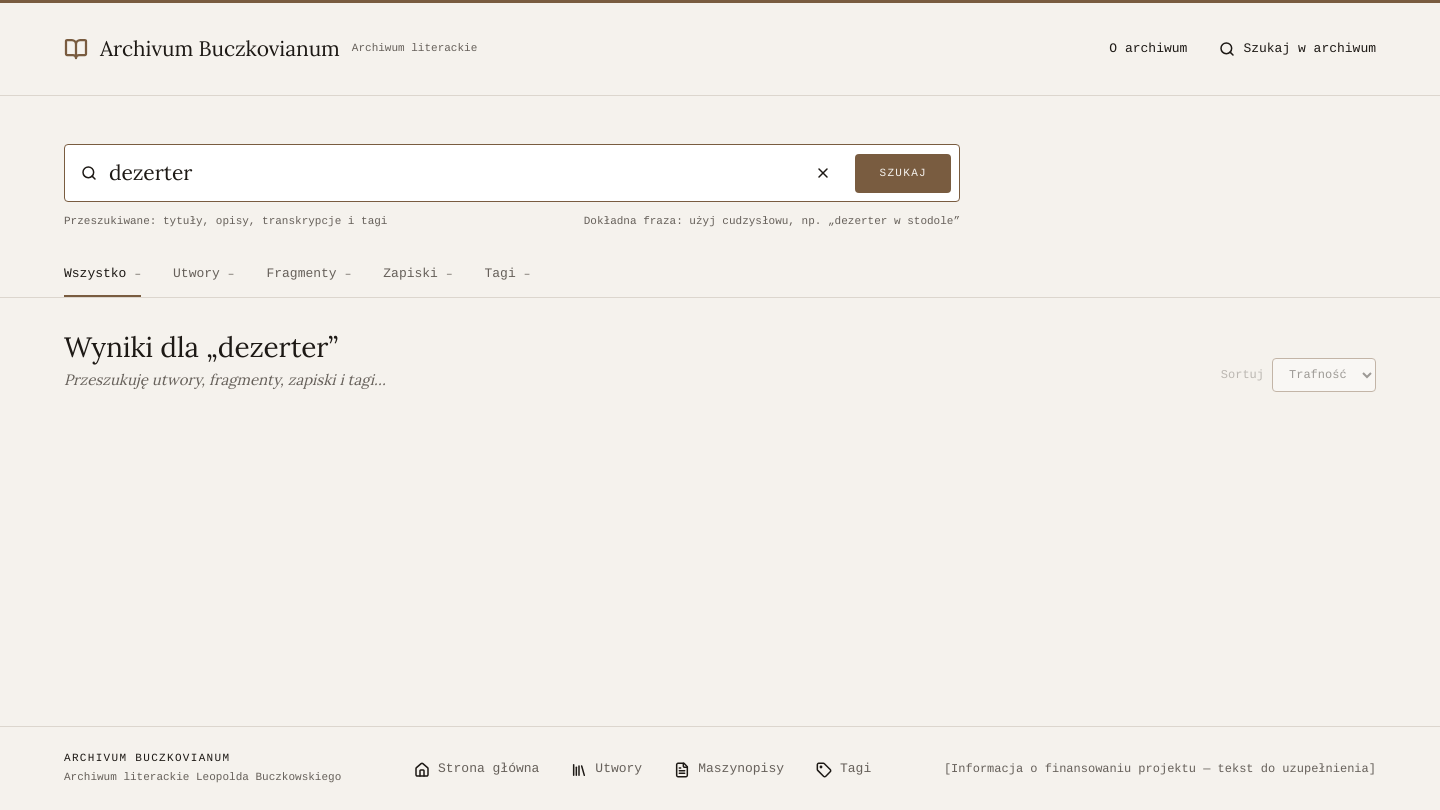
SiteLayout › US-RA-14 AC1: a header search for the current query drops unsubmitted edits
The width and height of the screenshot is (1440, 810).
Replace the text in the dropdown named "Szukaj w archiwum" with "potok" at (450, 173), box x1=109 y1=159 x2=792 y2=188
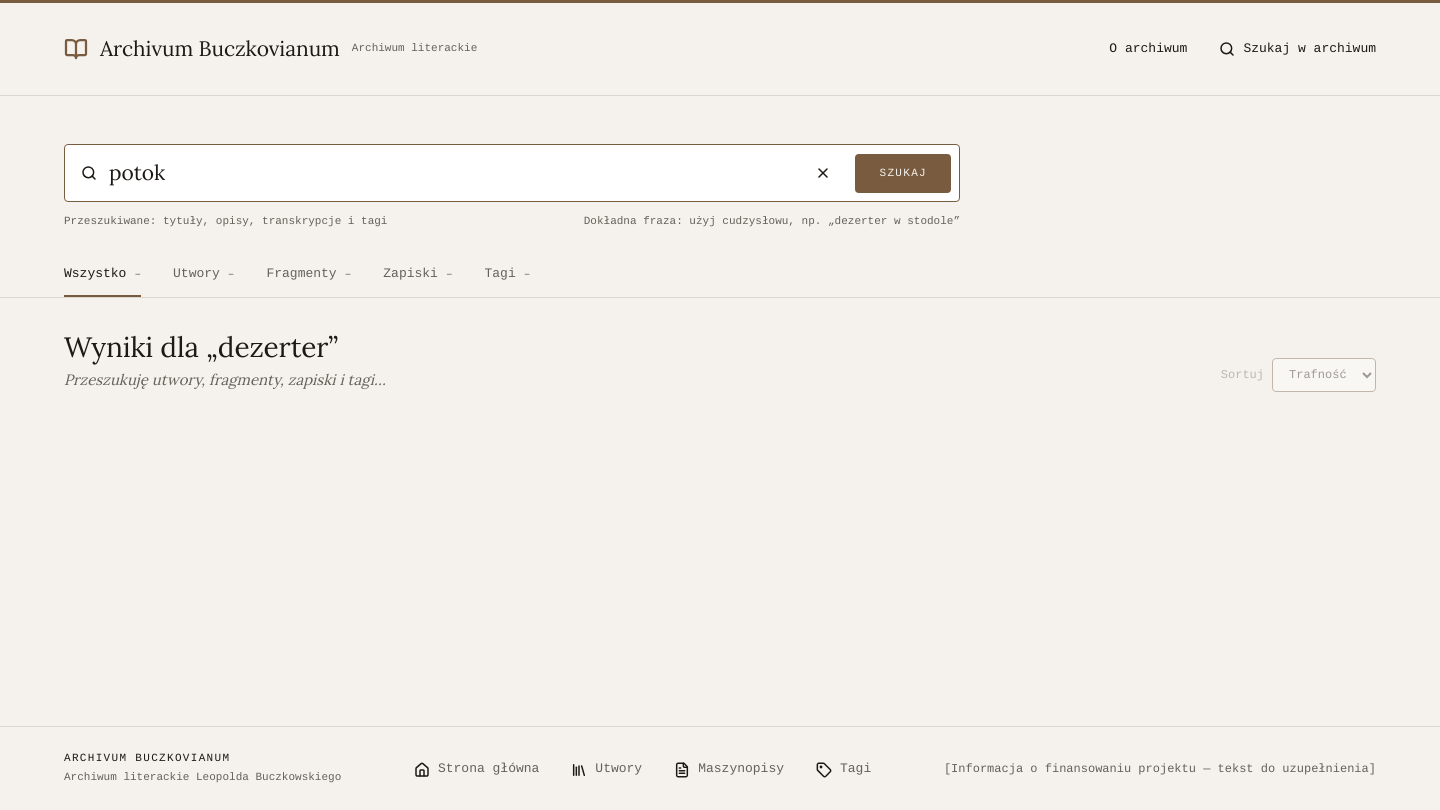
Type "dezerter" into the dropdown with placeholder "Szukaj w archiwum" at (1310, 49), box x1=1243 y1=41 x2=1376 y2=58
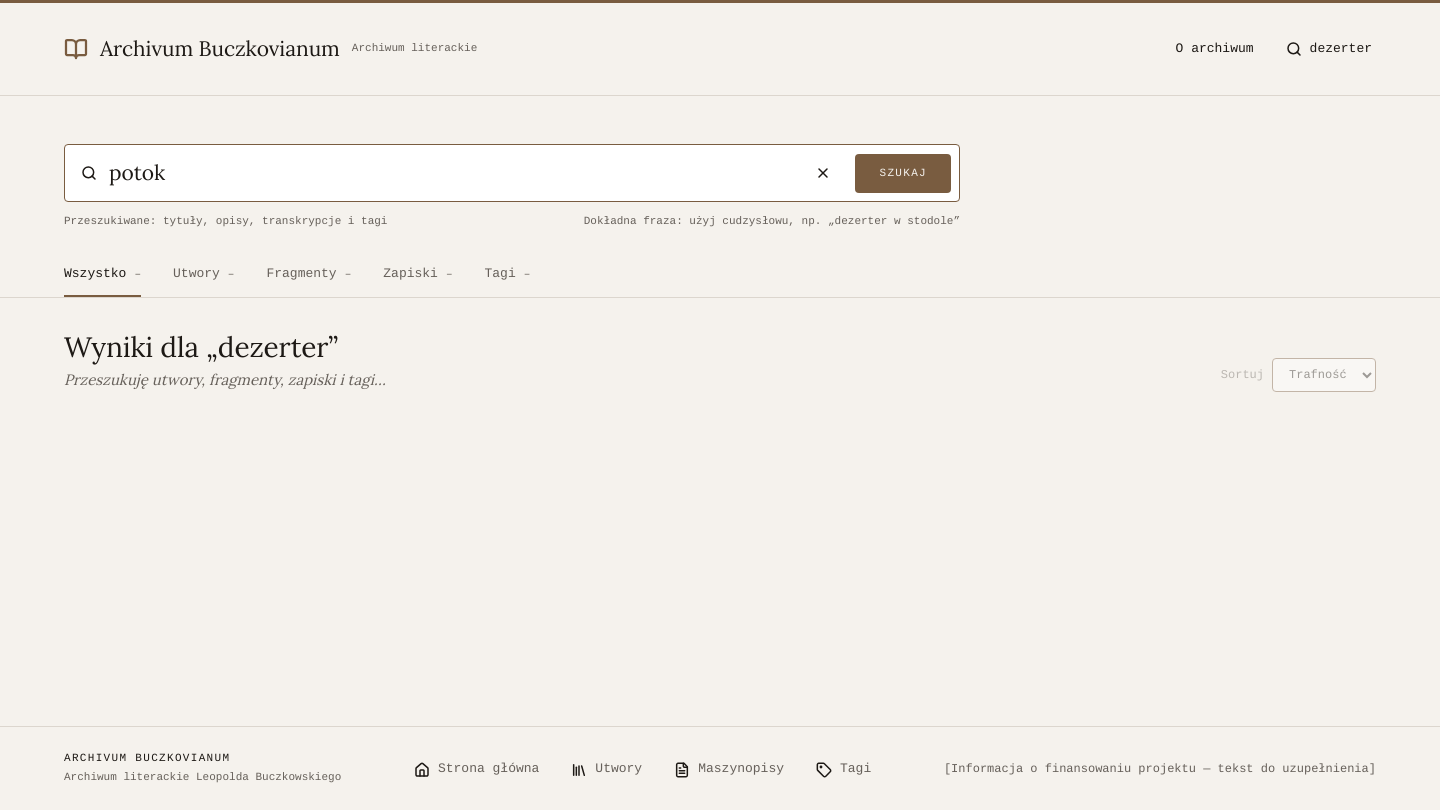
Submit the form named "Szukaj w archiwum", box x1=1286 y1=41 x2=1376 y2=58
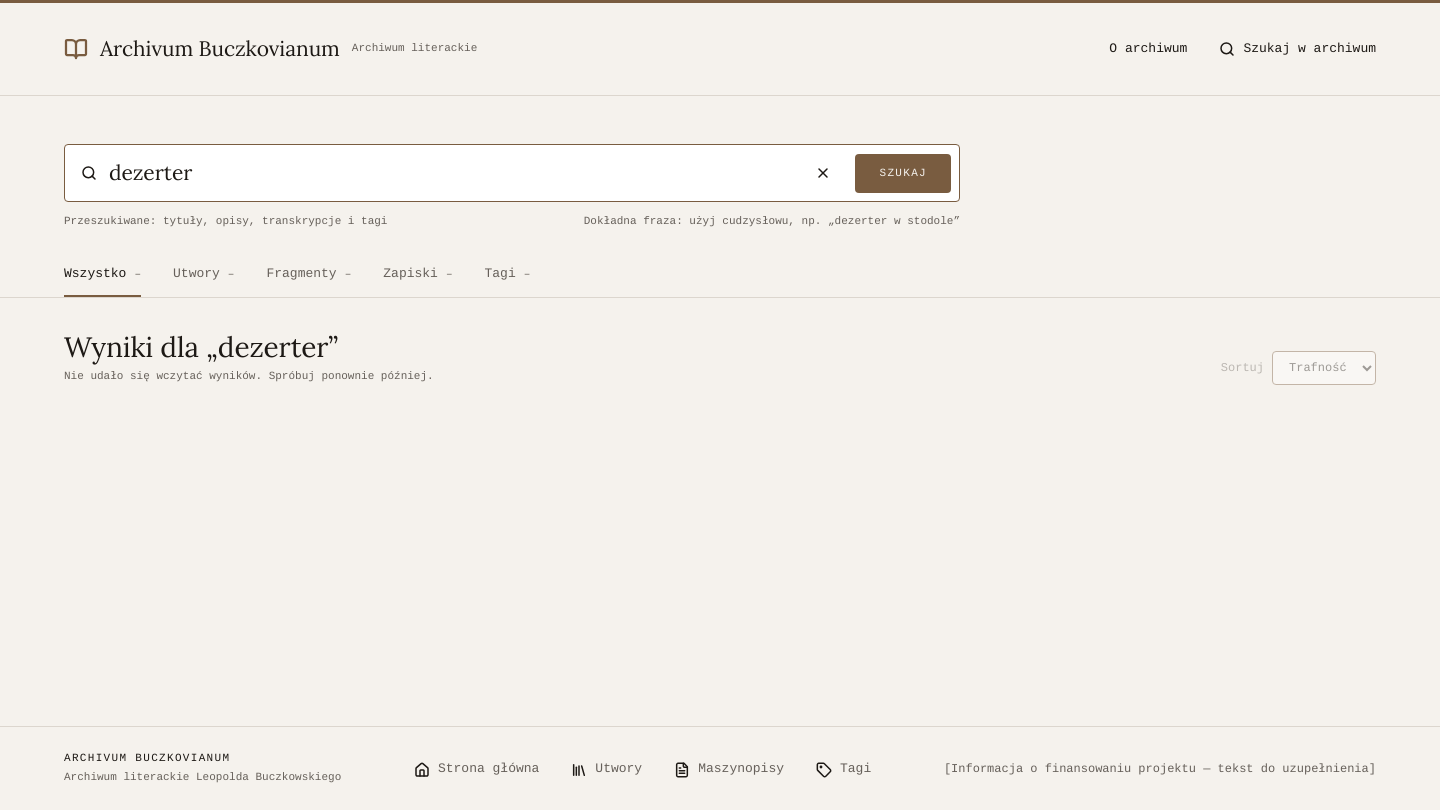
Now the dropdown named "Szukaj w archiwum" holds "dezerter", box x1=109 y1=159 x2=792 y2=188
